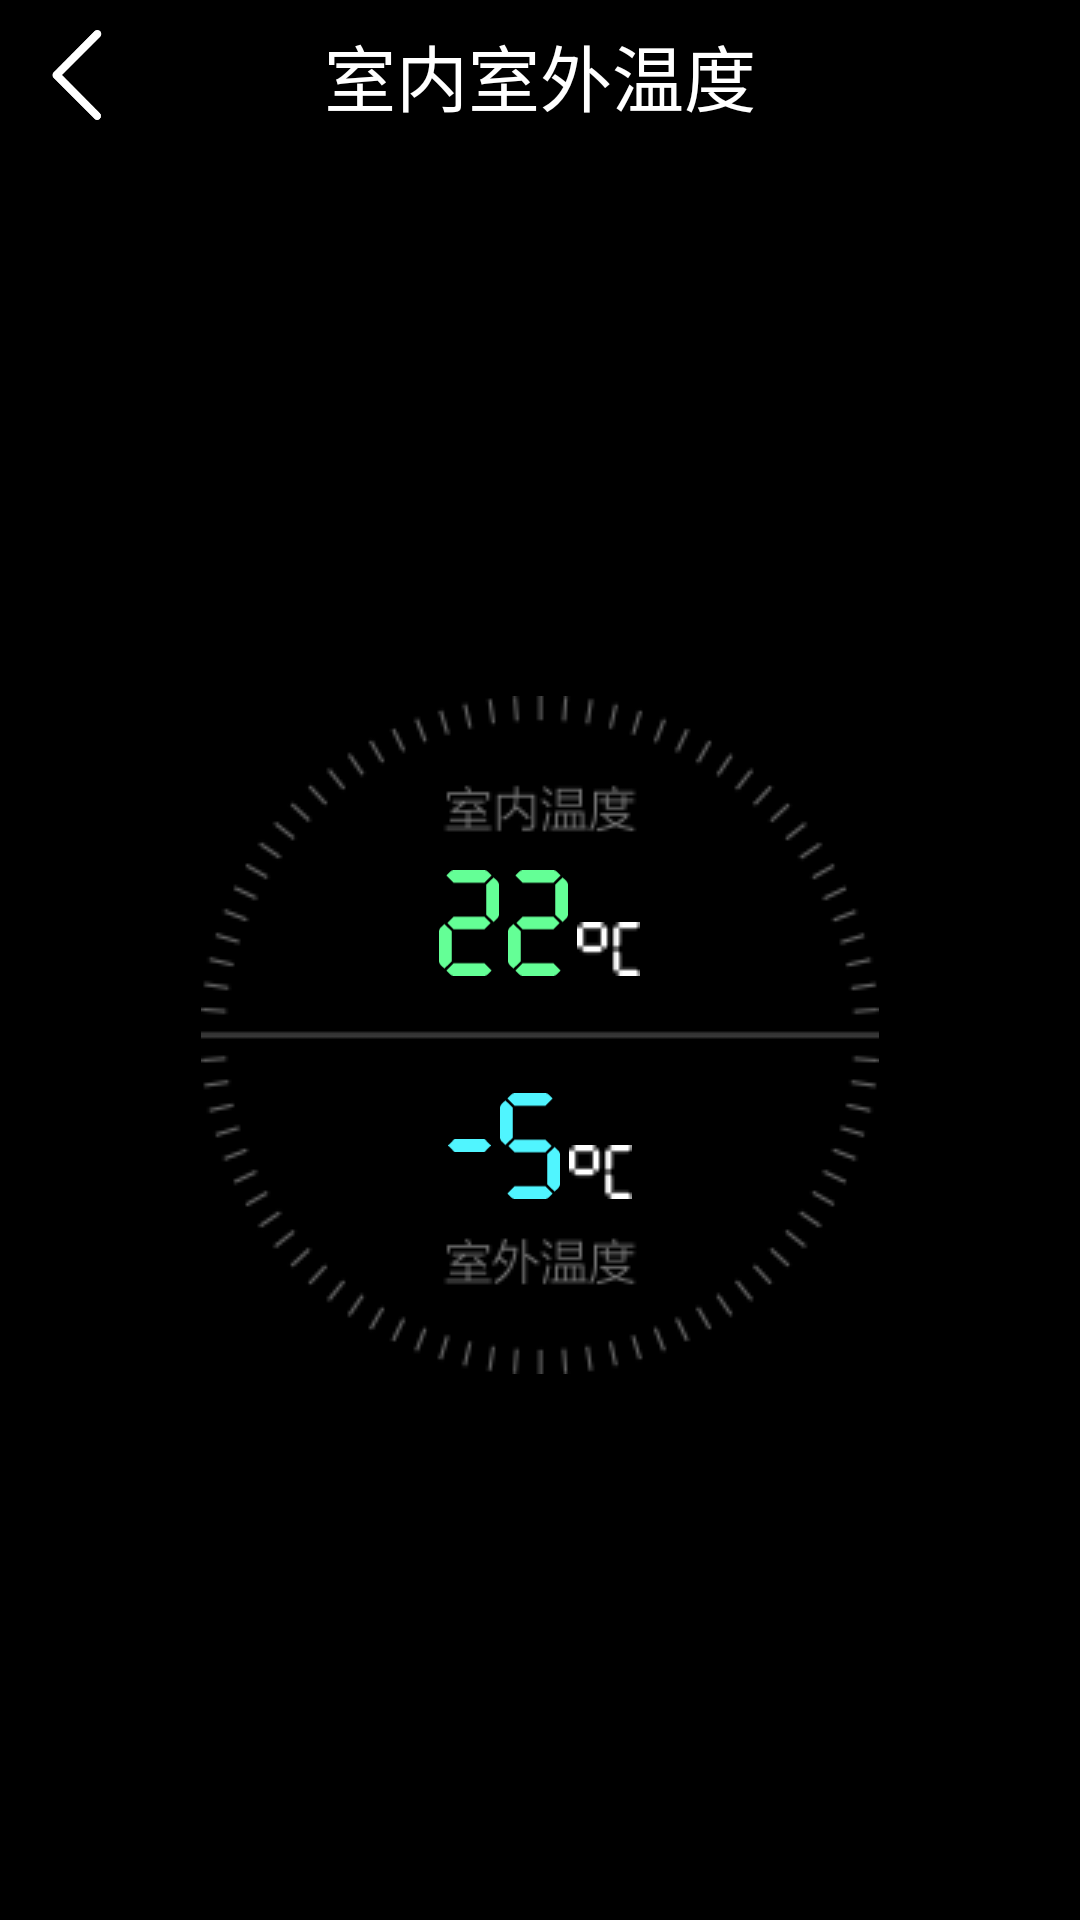

Icon click points for this 1080 x 1920 phone screenshot, format (x=x, y=y):
back: (x=77, y=75)
shuzi: (x=469, y=923), (x=538, y=923), (x=530, y=1146)
wendu dw: (x=608, y=949), (x=600, y=1172)
